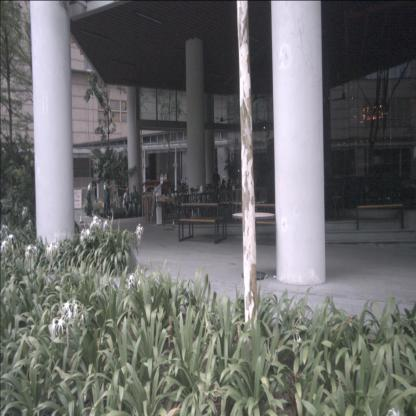human-pedestrian-adult: (102, 174, 114, 219), (86, 179, 98, 218), (212, 166, 221, 210), (130, 184, 141, 218), (122, 187, 131, 217), (219, 179, 227, 204), (226, 179, 234, 202), (184, 177, 188, 193), (181, 176, 184, 192)
